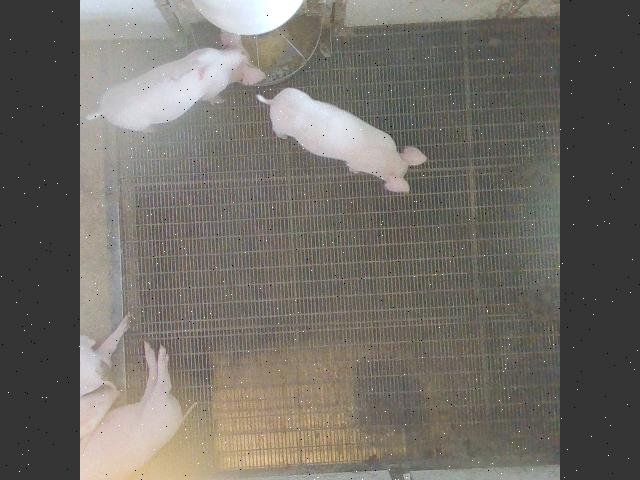pig-5: (87, 31, 265, 130)
